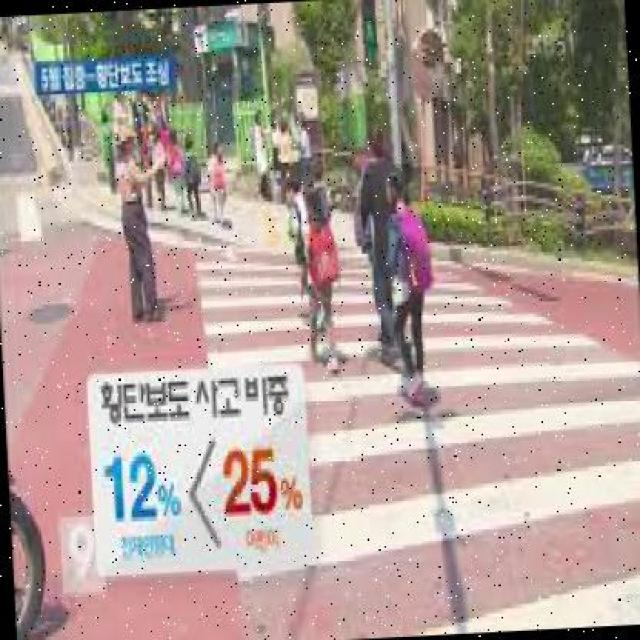obstacle: (352, 123, 413, 366), (381, 168, 439, 410), (111, 120, 178, 323), (294, 181, 344, 373), (206, 134, 228, 229), (181, 130, 201, 213)
